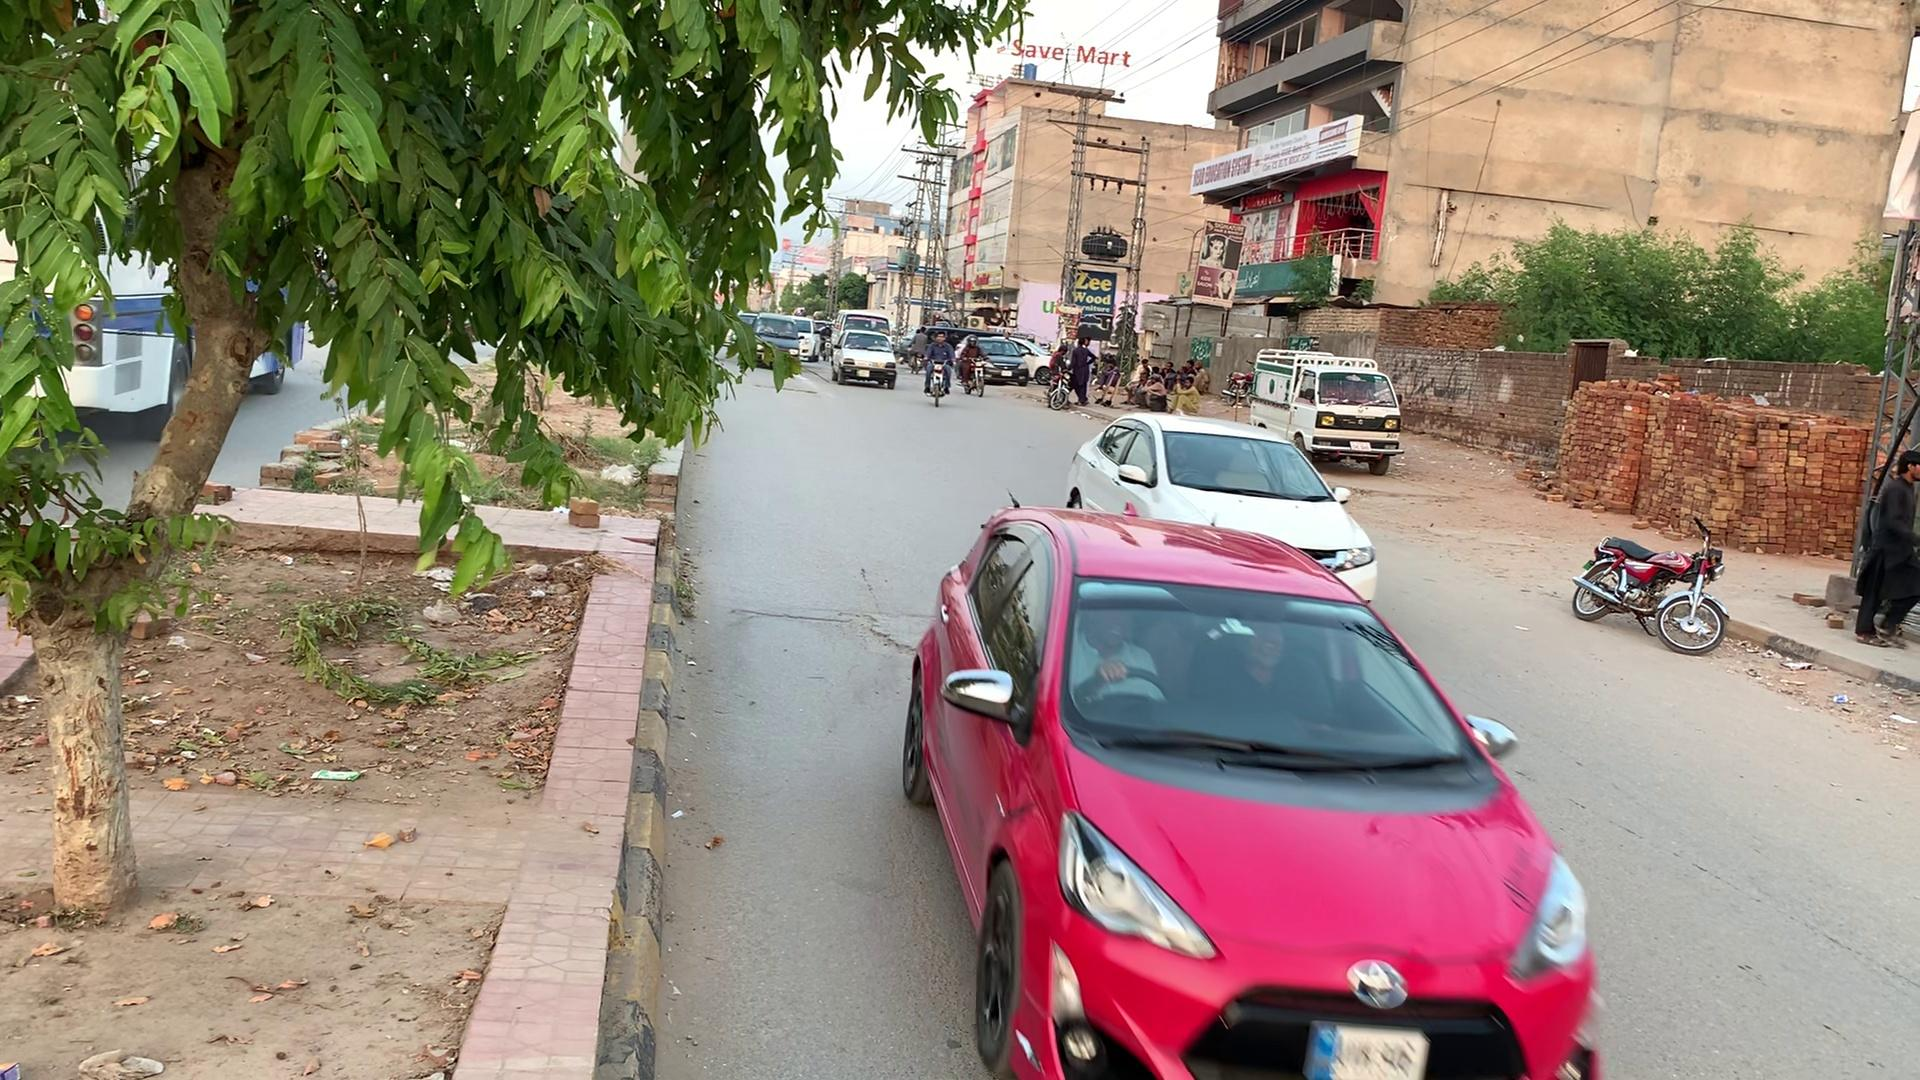windshield: (1054, 547, 1503, 781)
